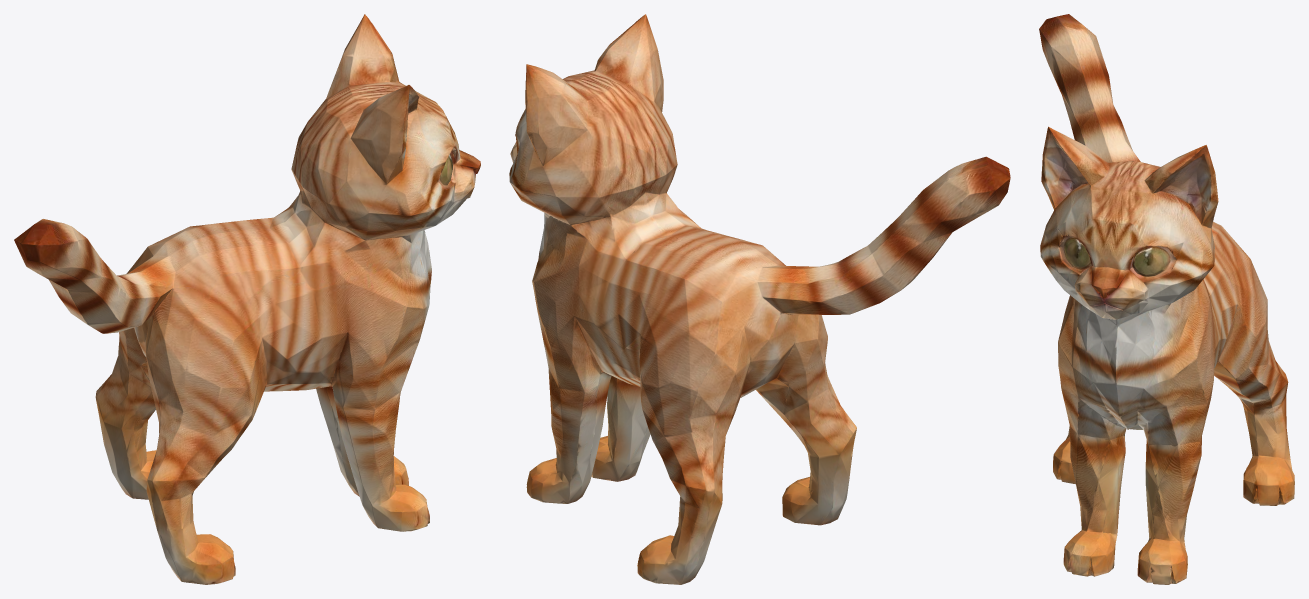
File: HOVERPAW.glb
The picture shows the model from 3 angles, left to right: view 1: azimuth 30°, elevation 25°; view 2: azimuth 150°, elevation 25°; view 3: azimuth 270°, elevation 25°; orthographic projection. The views are drawn at different scales.
Visible parts, largest first — view 1: fit; view 2: fit; view 3: fit.
Boxes of the visible parts, x1=… form: fit: x1=14, y1=14, x2=480, y2=584; fit: x1=509, y1=14, x2=1010, y2=584; fit: x1=1039, y1=14, x2=1294, y2=584.
Bounding box in the file's own units: 1.1 × 0.9999 × 0.534.
1 material, 1 textured.
